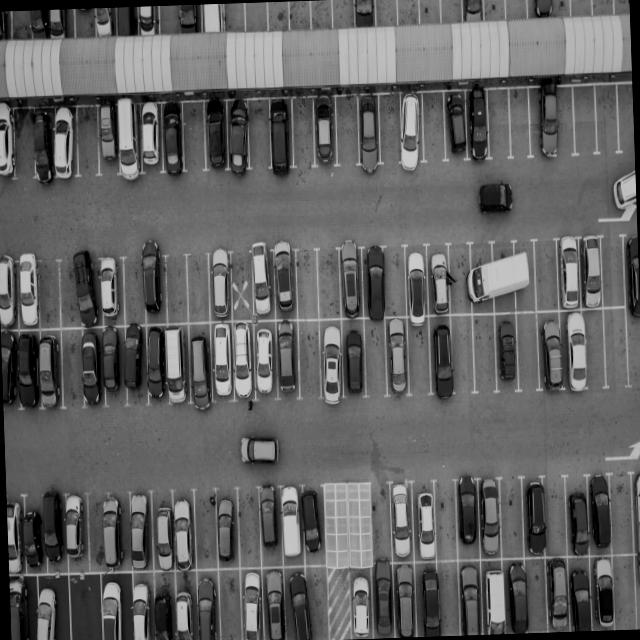car: (24, 572, 67, 640), (560, 308, 594, 390), (94, 569, 131, 640), (186, 322, 216, 403), (410, 480, 440, 560), (385, 480, 414, 562), (537, 312, 567, 391), (479, 556, 510, 632), (161, 323, 190, 404), (532, 85, 564, 158), (68, 255, 100, 328), (207, 322, 236, 402), (34, 326, 63, 406), (238, 567, 269, 640), (61, 492, 90, 570), (122, 324, 150, 404), (252, 320, 280, 400), (452, 478, 480, 558), (227, 322, 255, 402), (12, 329, 40, 409), (127, 490, 155, 570), (272, 318, 300, 397), (191, 567, 221, 640), (317, 315, 344, 396), (382, 318, 410, 396), (340, 317, 368, 395), (170, 492, 198, 570), (492, 312, 521, 387), (456, 559, 485, 634), (135, 101, 164, 176), (115, 102, 144, 177), (200, 100, 230, 172), (477, 477, 504, 557), (396, 94, 426, 166), (488, 240, 518, 312), (428, 318, 456, 394), (388, 560, 416, 636), (566, 552, 593, 630), (98, 256, 128, 326), (282, 564, 310, 639), (206, 250, 235, 322), (100, 322, 126, 402), (100, 494, 127, 571), (251, 245, 279, 319), (542, 558, 570, 632), (12, 257, 40, 330), (214, 489, 240, 567), (413, 560, 440, 635), (556, 238, 584, 310), (128, 571, 157, 640), (259, 486, 284, 566), (566, 480, 593, 554), (160, 102, 187, 176), (261, 566, 288, 640), (266, 98, 294, 169), (149, 569, 177, 640), (349, 568, 377, 639), (470, 241, 498, 312), (586, 552, 612, 628), (169, 572, 198, 640), (442, 90, 470, 160), (359, 248, 387, 318), (278, 487, 304, 562), (298, 491, 324, 566), (149, 492, 174, 570), (82, 327, 107, 405), (144, 324, 169, 402), (40, 494, 66, 569), (270, 246, 297, 318), (30, 106, 56, 180), (502, 560, 528, 634), (225, 100, 252, 171), (337, 249, 365, 317), (521, 481, 546, 557), (52, 106, 78, 178), (576, 236, 602, 308), (368, 566, 394, 638), (586, 479, 610, 556), (96, 105, 122, 176), (510, 240, 536, 311), (22, 494, 46, 570), (312, 96, 338, 166), (466, 90, 492, 160), (404, 247, 430, 316), (357, 95, 382, 166), (142, 255, 168, 322), (80, 254, 104, 326), (427, 246, 452, 315), (8, 573, 33, 640), (7, 500, 26, 577), (0, 254, 19, 328), (1, 330, 18, 408), (624, 233, 640, 307), (0, 106, 15, 179), (44, 9, 72, 41), (630, 470, 640, 552), (135, 5, 161, 36), (114, 7, 138, 38), (198, 3, 223, 32), (178, 4, 202, 34), (528, 0, 569, 17), (94, 7, 116, 38), (351, 0, 375, 28), (28, 9, 48, 40), (633, 548, 640, 625), (462, 0, 486, 21), (0, 11, 11, 42)
free: (66, 570, 104, 640), (336, 487, 366, 571), (215, 566, 246, 640), (448, 314, 477, 393), (404, 318, 434, 394), (300, 564, 330, 639), (294, 320, 322, 398), (602, 308, 630, 386), (512, 312, 540, 390), (432, 560, 461, 634), (498, 480, 525, 559), (59, 328, 86, 407), (361, 317, 389, 393), (471, 313, 498, 391), (432, 482, 458, 562), (582, 308, 608, 388), (191, 492, 218, 569), (238, 489, 264, 568), (367, 486, 392, 568), (180, 101, 208, 173), (544, 481, 570, 558), (247, 96, 274, 170), (226, 250, 253, 324), (612, 552, 638, 628), (164, 254, 192, 324), (314, 250, 342, 320), (291, 251, 319, 321), (290, 98, 318, 168), (608, 476, 633, 554), (334, 94, 361, 166), (524, 558, 550, 632), (12, 108, 38, 182), (532, 241, 559, 312), (59, 257, 86, 327), (602, 234, 628, 306), (376, 94, 402, 166), (183, 254, 210, 323), (419, 93, 446, 162), (484, 87, 510, 158), (378, 247, 404, 318), (76, 106, 102, 177), (596, 85, 622, 155), (447, 244, 472, 316), (122, 256, 148, 324), (36, 260, 61, 330), (572, 86, 597, 156), (507, 87, 532, 157), (87, 496, 110, 572), (324, 489, 346, 566), (617, 85, 634, 153), (625, 308, 640, 384), (74, 8, 98, 40), (243, 2, 268, 32), (309, 0, 334, 30), (266, 1, 290, 32), (157, 4, 181, 34), (287, 0, 311, 30), (330, 0, 355, 28), (10, 10, 33, 40), (223, 2, 246, 32), (373, 0, 397, 26), (396, 0, 420, 25), (418, 0, 442, 24), (439, 0, 463, 23), (481, 0, 504, 21), (503, 0, 527, 20), (589, 0, 613, 15), (569, 0, 592, 15), (612, 0, 629, 13)
